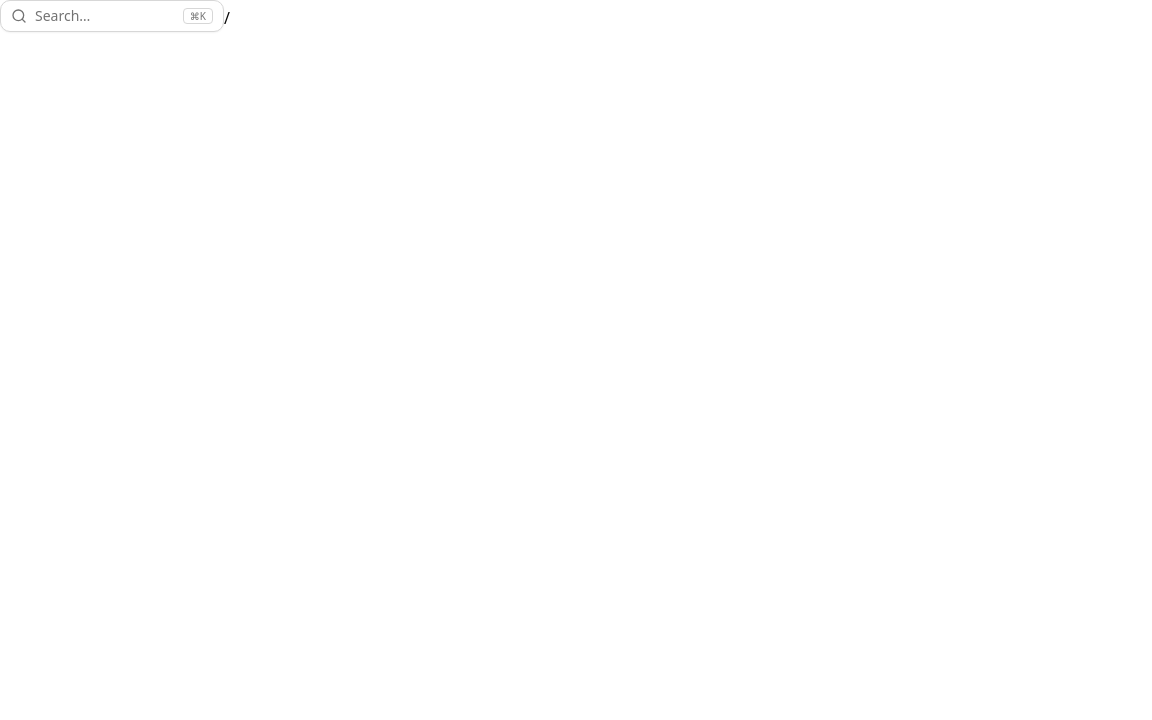
Test case: CommandPalette › opens with ctrl+K and jumps to a page
The image size is (1152, 720).
Type keys "{Control>}k{/Control}"
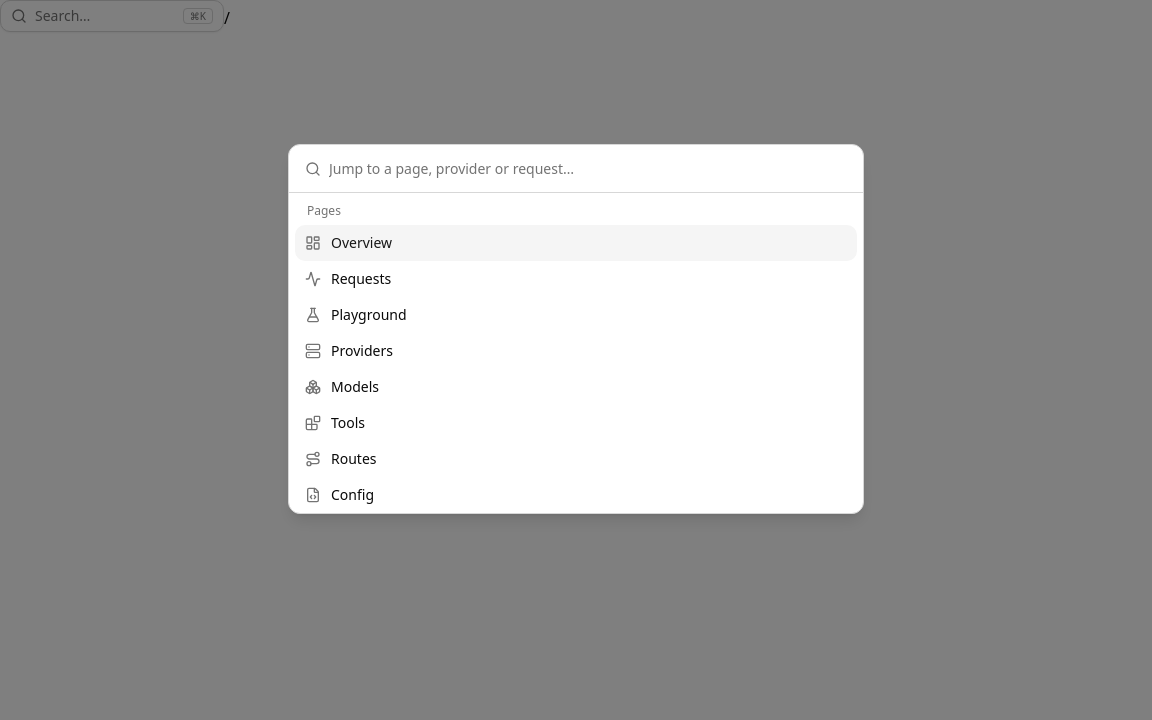
Type "prov" into the dropdown with placeholder "Jump to a page, provider or request…".
click(588, 168); type("prov")  # box [329,148,847,188]
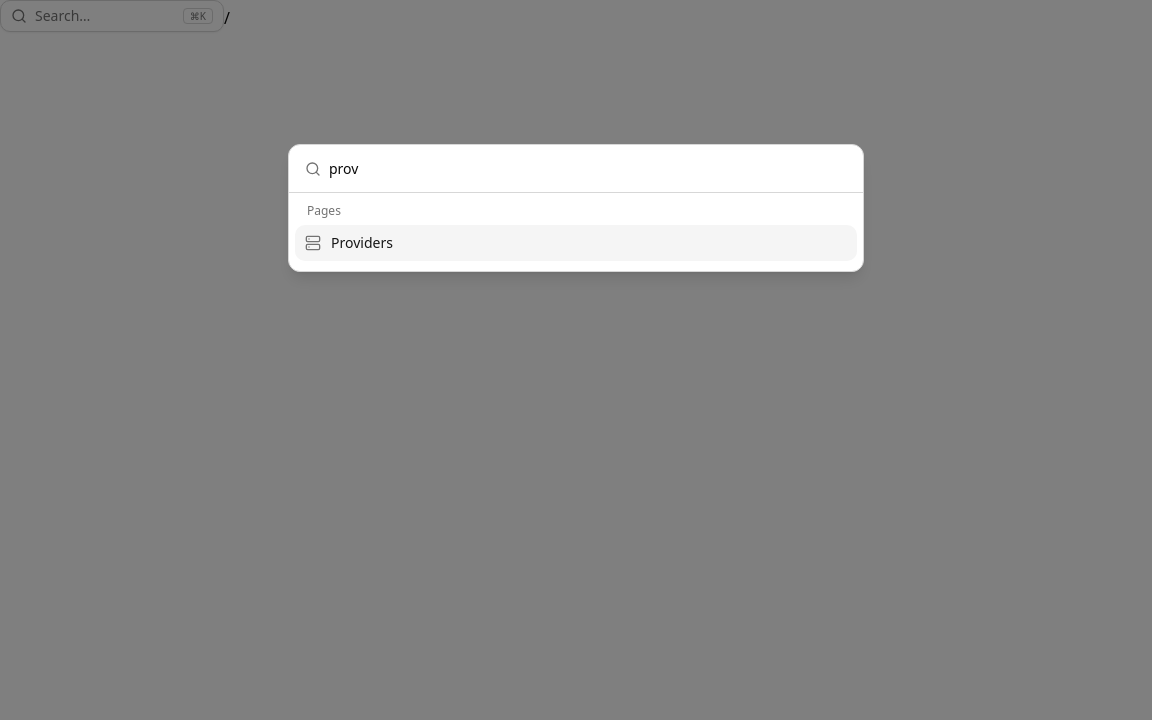
Press Enter
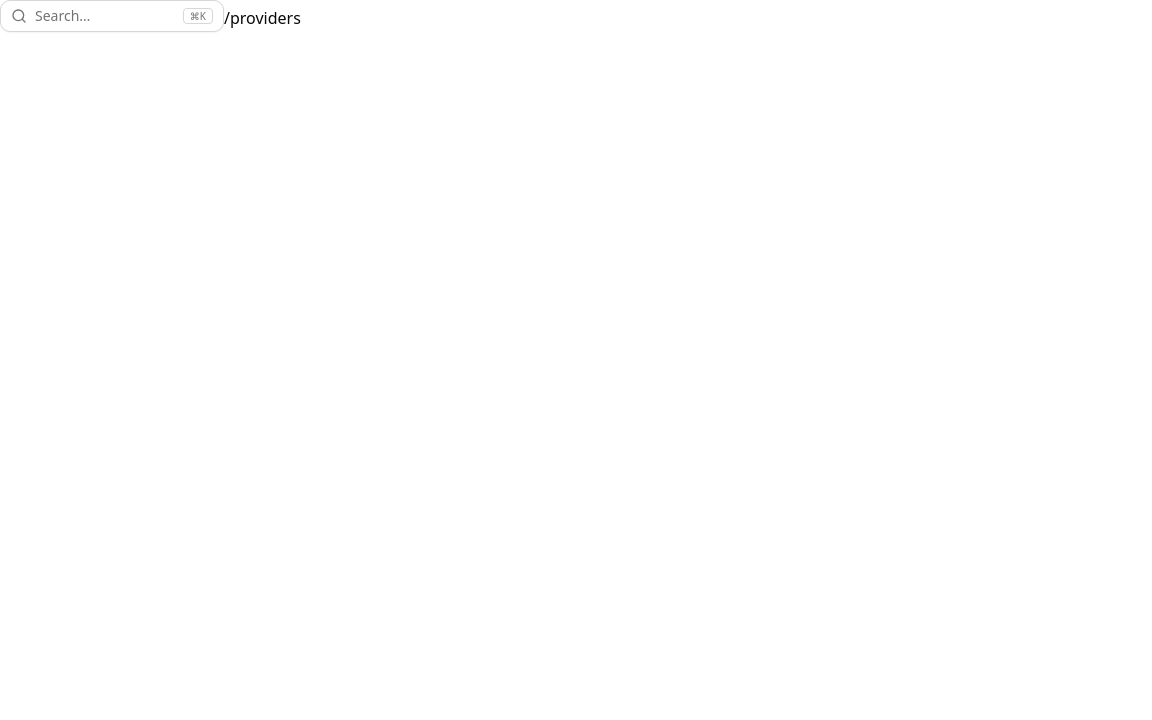
expect the field with placeholder "jump to" is not shown: met
expect the text named "location" reads "/providers": met, box [224,7,301,29]
